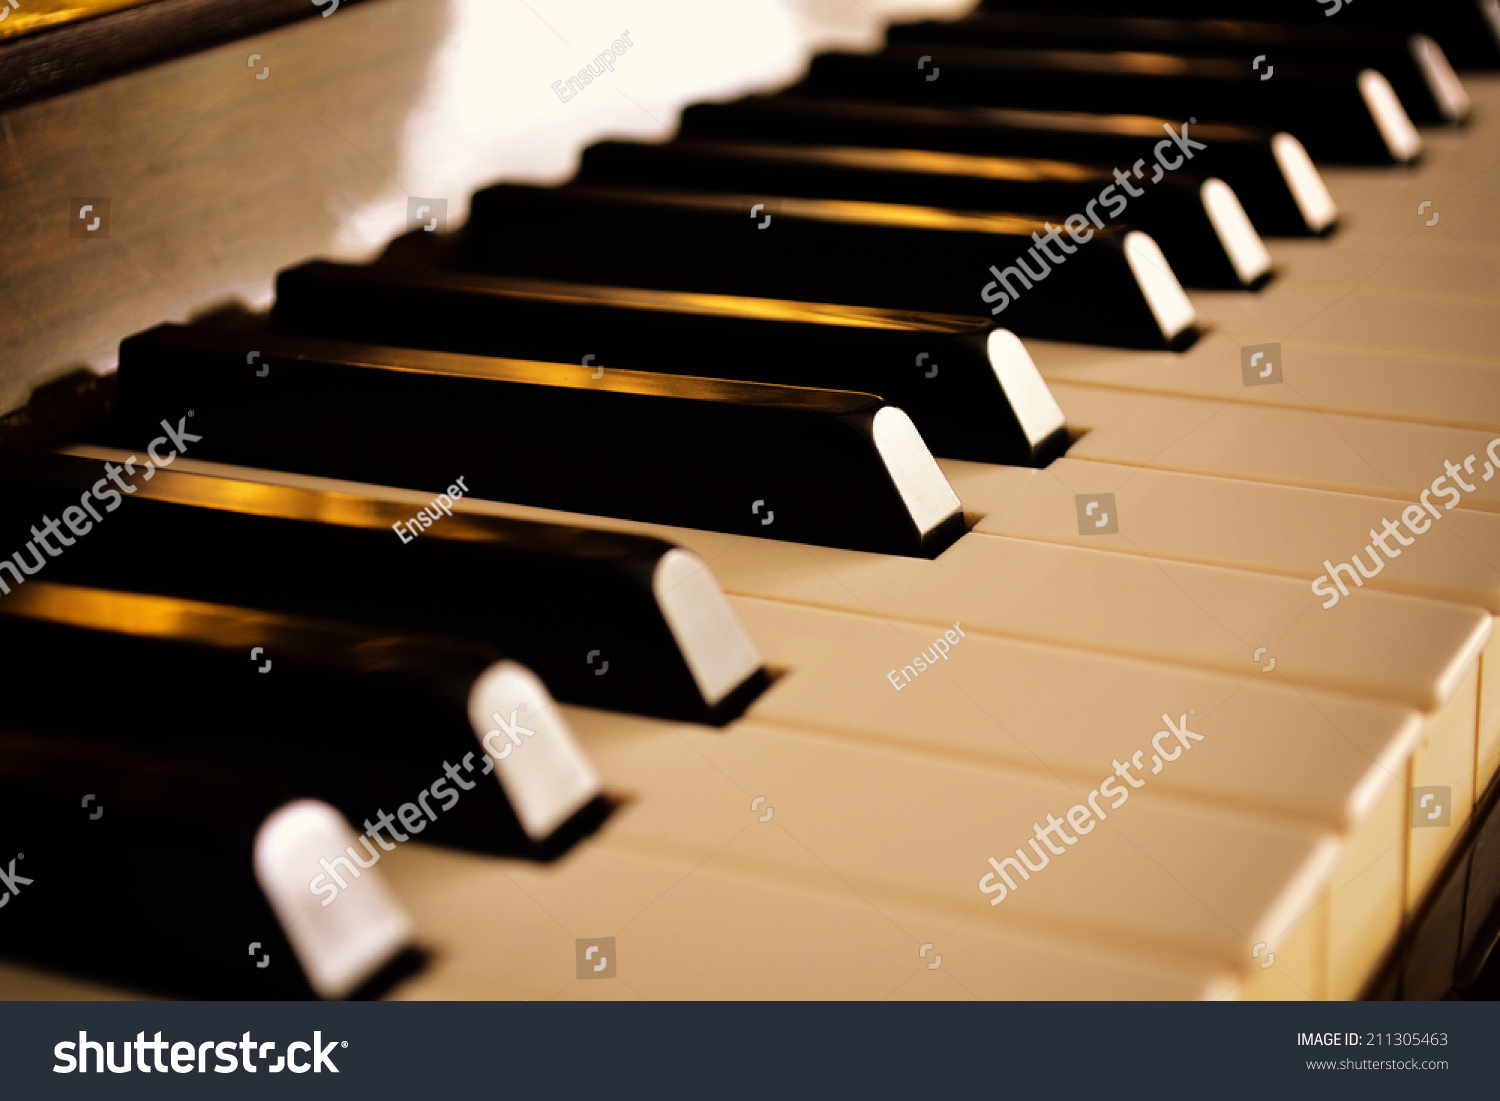Piano: (5, 1, 1500, 1015)
